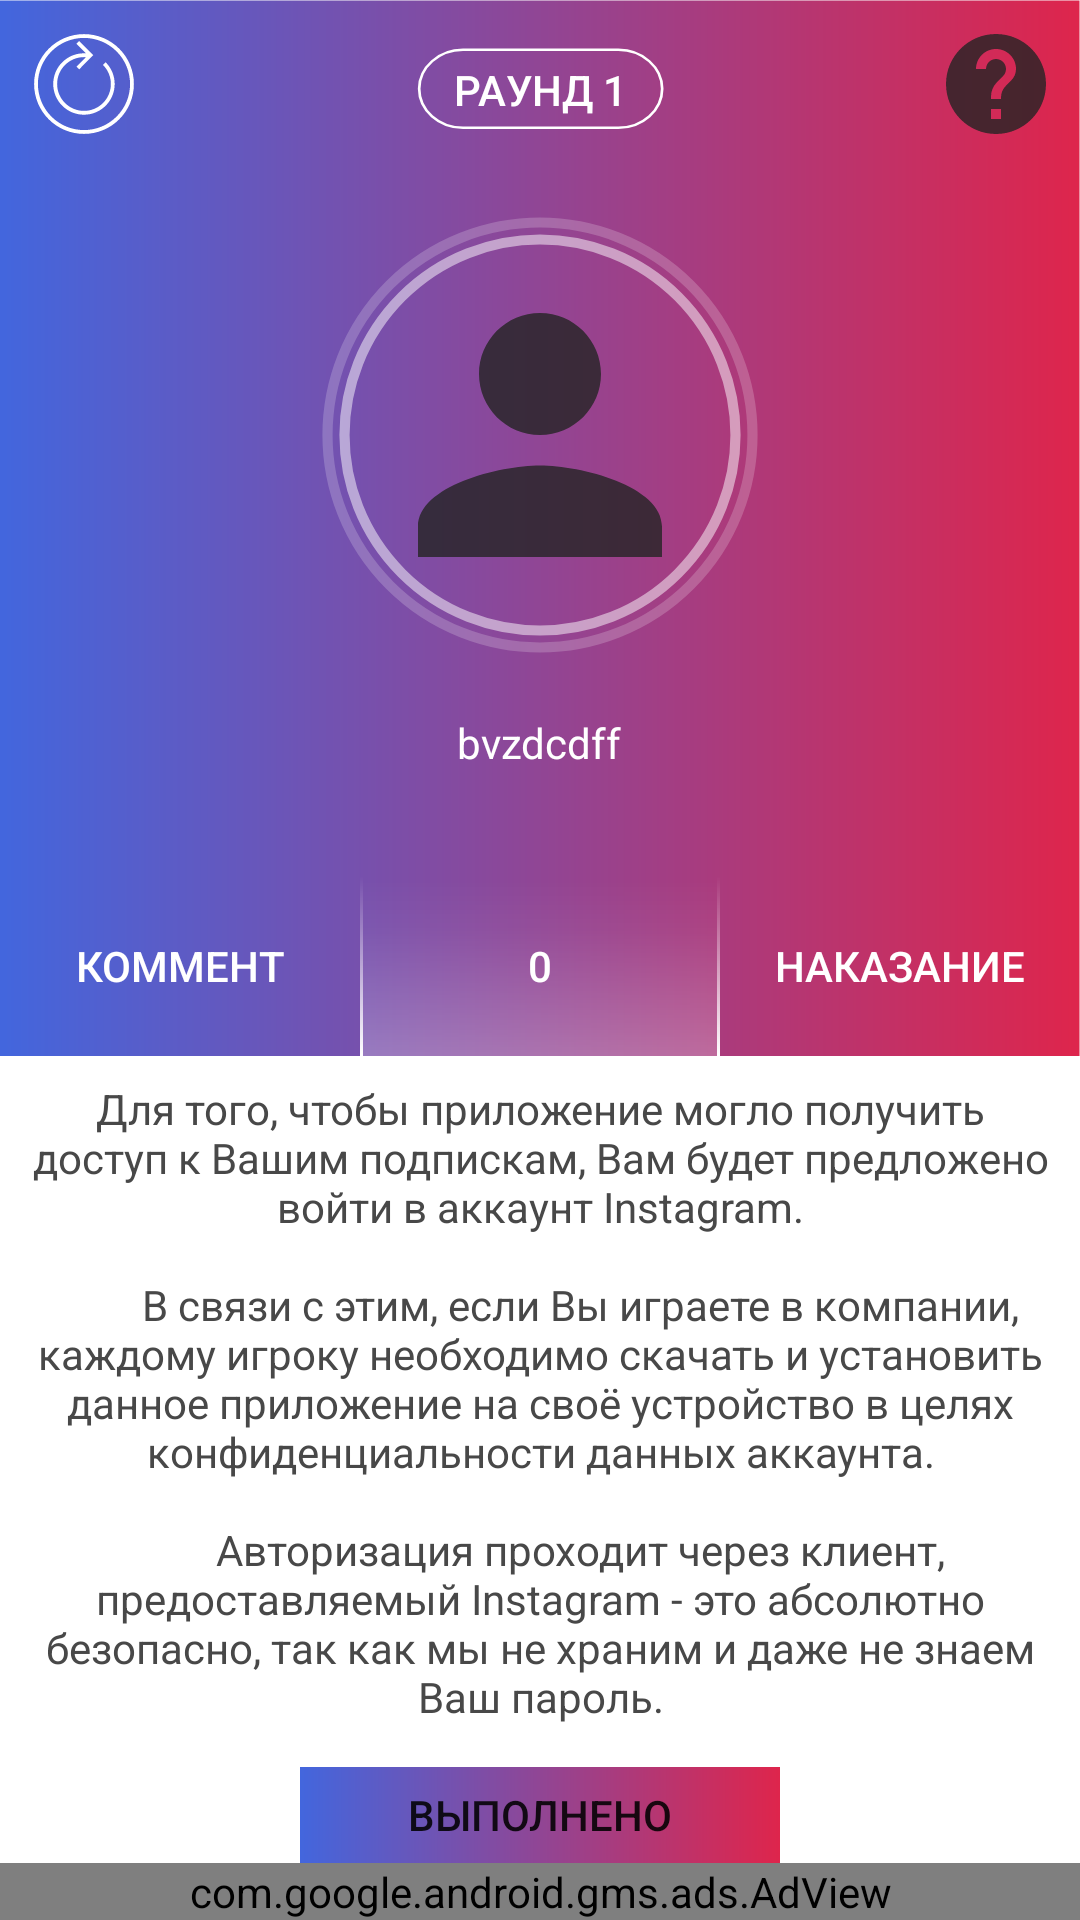

Named icons in this screenshot (1080 x 1920) and their bounding boxes, (x1, y1, x2, y2):
help: (946, 34, 1046, 134)
reload: (34, 34, 134, 134)
